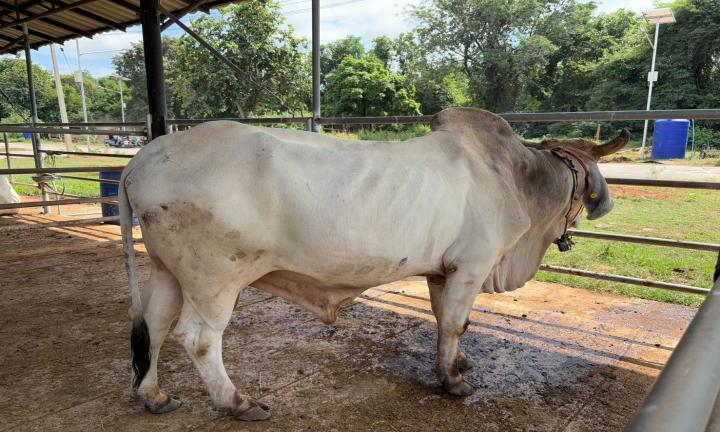Brahman: (118, 108, 628, 420)
